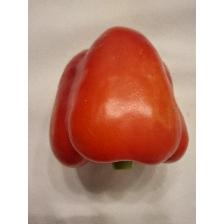Paprika: (46, 24, 192, 174)
